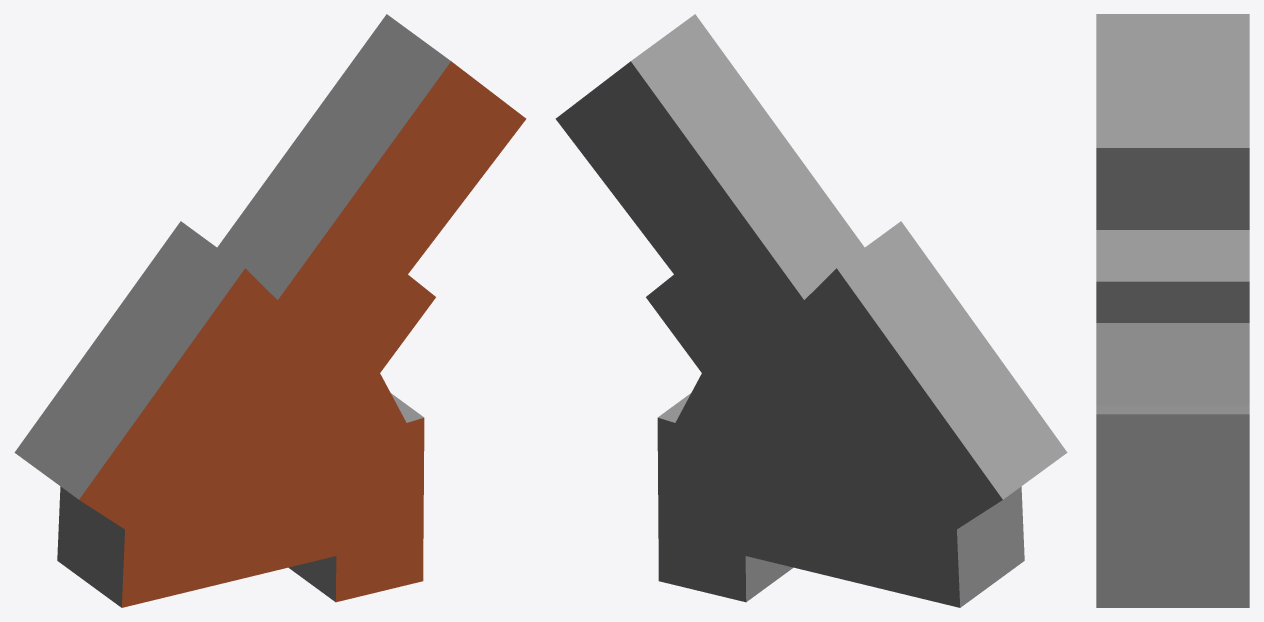
Rendered from construction_3061_assumed_A_Casa_h6m.obj.
3 renders of one model, left to right at view 1: azimuth 30°, elevation 25°; view 2: azimuth 150°, elevation 25°; view 3: azimuth 270°, elevation 25°, orthographic. The views are drawn at different scales.
Parts seen in each view (by area): view 1: construction_3061_assumed_A_Casa; view 2: construction_3061_assumed_A_Casa; view 3: construction_3061_assumed_A_Casa.
Part boxes in pixels (x1,y1,x2,y2): construction_3061_assumed_A_Casa: (14, 14, 526, 607); construction_3061_assumed_A_Casa: (555, 14, 1067, 607); construction_3061_assumed_A_Casa: (1096, 14, 1249, 607).
Bounding box in the file's own units: 24.03 × 26.33 × 6.
